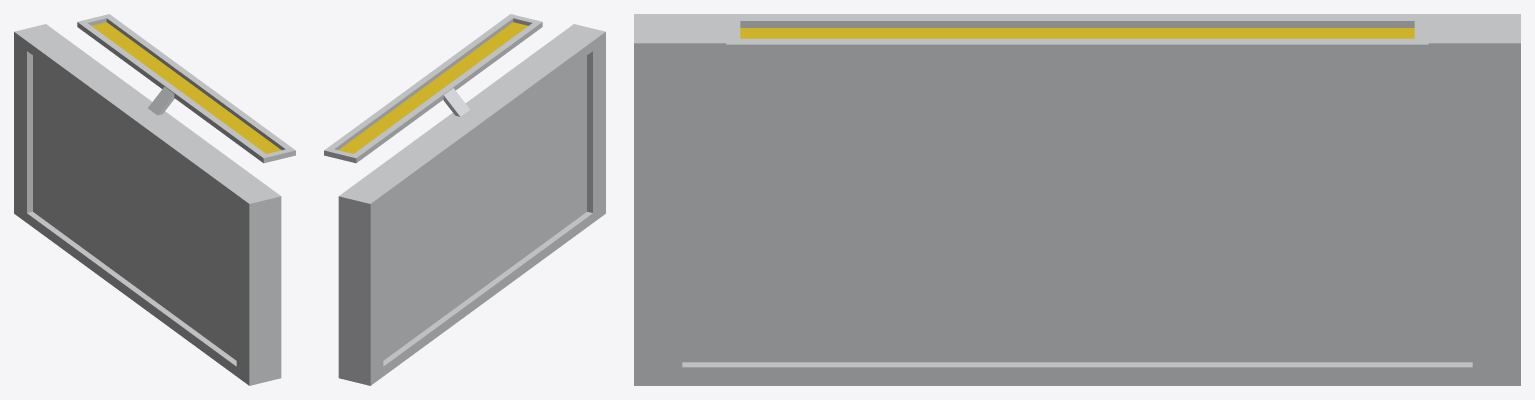
File: billboard.fbx
The picture shows the model from 3 angles, left to right: view 1: azimuth 30°, elevation 25°; view 2: azimuth 150°, elevation 25°; view 3: azimuth 270°, elevation 25°; orthographic projection. The views are drawn at different scales.
Parts seen in each view (by area): view 1: Cube, Cube.001; view 2: Cube, Cube.001; view 3: Cube.002, Cube.
Boxes of the visible parts, left/top/right/bottom form: Cube: left=14, top=14, right=295, bottom=385; Cube.001: left=33, top=55, right=236, bottom=360; Cube: left=324, top=14, right=605, bottom=385; Cube.001: left=383, top=55, right=586, bottom=360; Cube.002: left=682, top=62, right=1472, bottom=362; Cube: left=634, top=14, right=1520, bottom=385.
Size of the model in its own units: 81.55 by 220 by 469.
